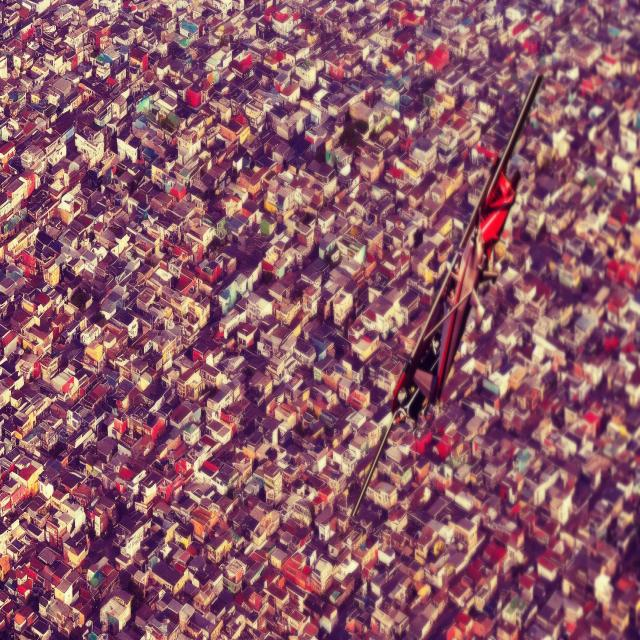airplane: (352, 74, 543, 516)
